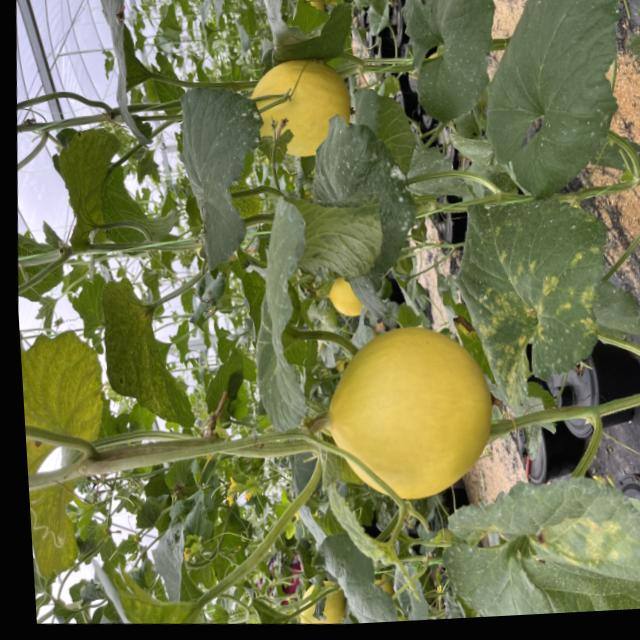downy mildew: (438, 174, 613, 429), (440, 456, 640, 619), (302, 114, 422, 313), (236, 192, 324, 429), (95, 270, 208, 433), (19, 324, 112, 481), (52, 112, 123, 261)
healthy: (474, 0, 631, 209), (168, 81, 272, 274), (312, 477, 410, 625), (399, 0, 501, 128), (91, 0, 161, 136), (245, 0, 358, 76), (101, 167, 184, 258), (28, 477, 83, 579), (14, 228, 65, 307)
